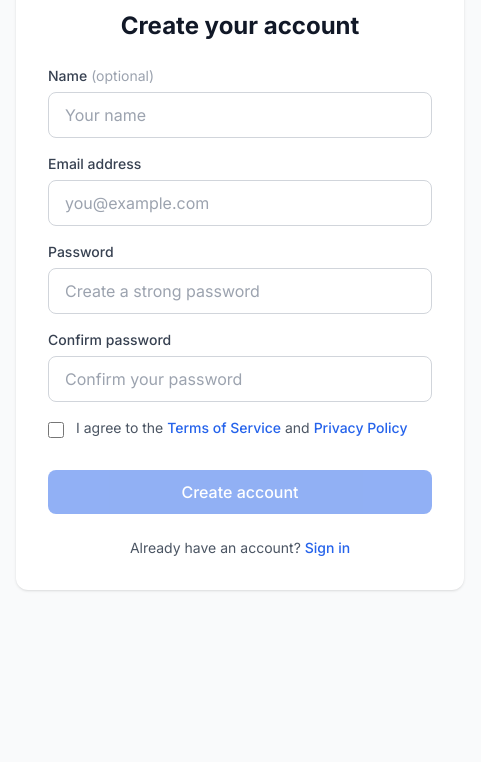
SignupForm › shows Medium strength for a moderately complex password
Type "AbcDef123456" into the password field labelled "Password".
click(240, 291); type("AbcDef123456")  # box [48,268,432,314]
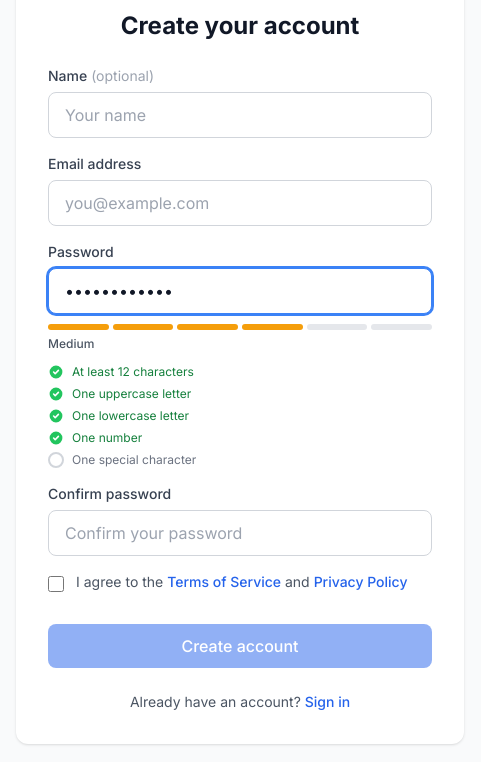
Expected: the text "Medium" is shown, [48,336,94,351]
